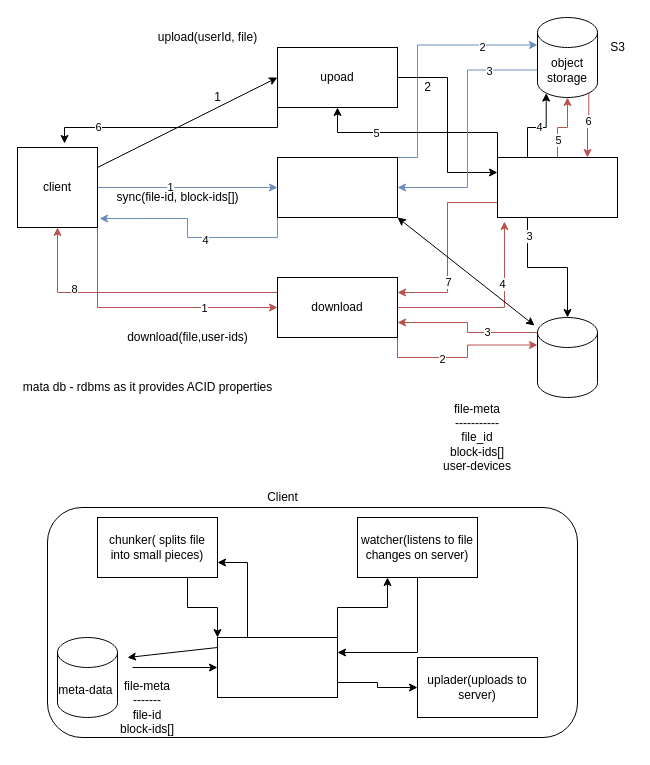
The diagram is 650 pixels wide and 765 high, and some of its shapes have lost their labels. The shapes that lost their labels are listed below. From the top down, each one's box as (x1, y1, x2, y2) in pixels, then its label:
(276, 156, 398, 218): sync
(496, 156, 618, 218): split and merge
(536, 316, 598, 398): file meta db
(216, 636, 338, 698): indexer(maintains meta db acc to events from server)
